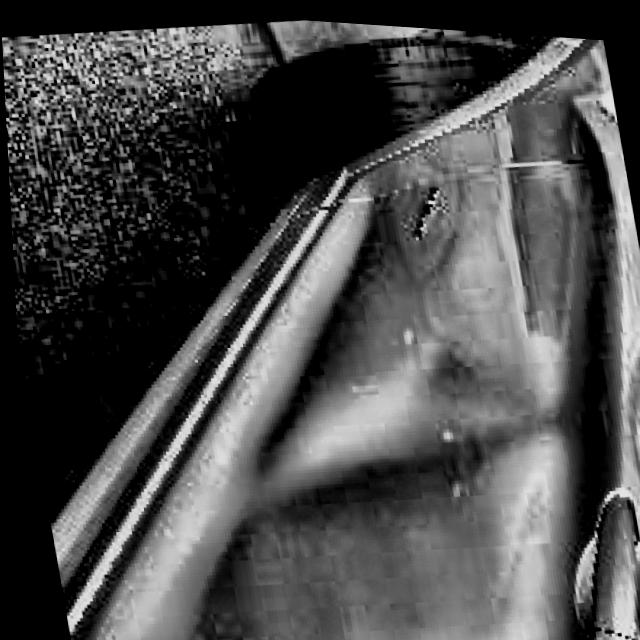door_dent: (241, 181, 527, 523)
